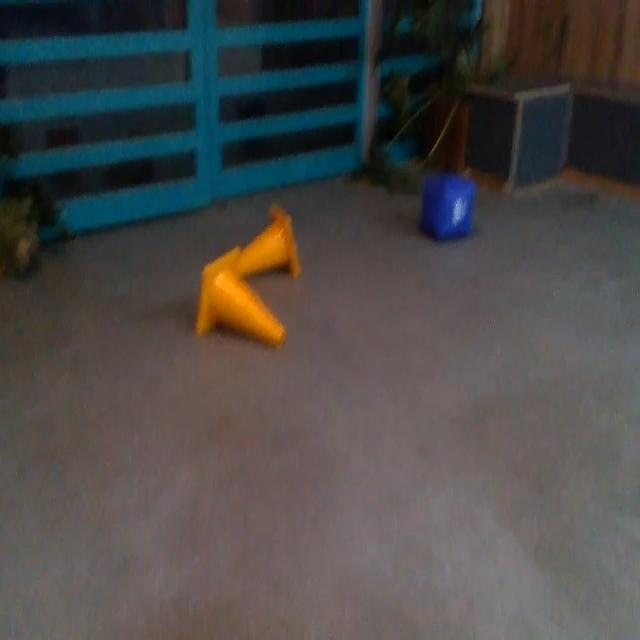cone: (194, 248, 290, 348), (214, 200, 304, 286)
cube: (420, 173, 479, 241)
